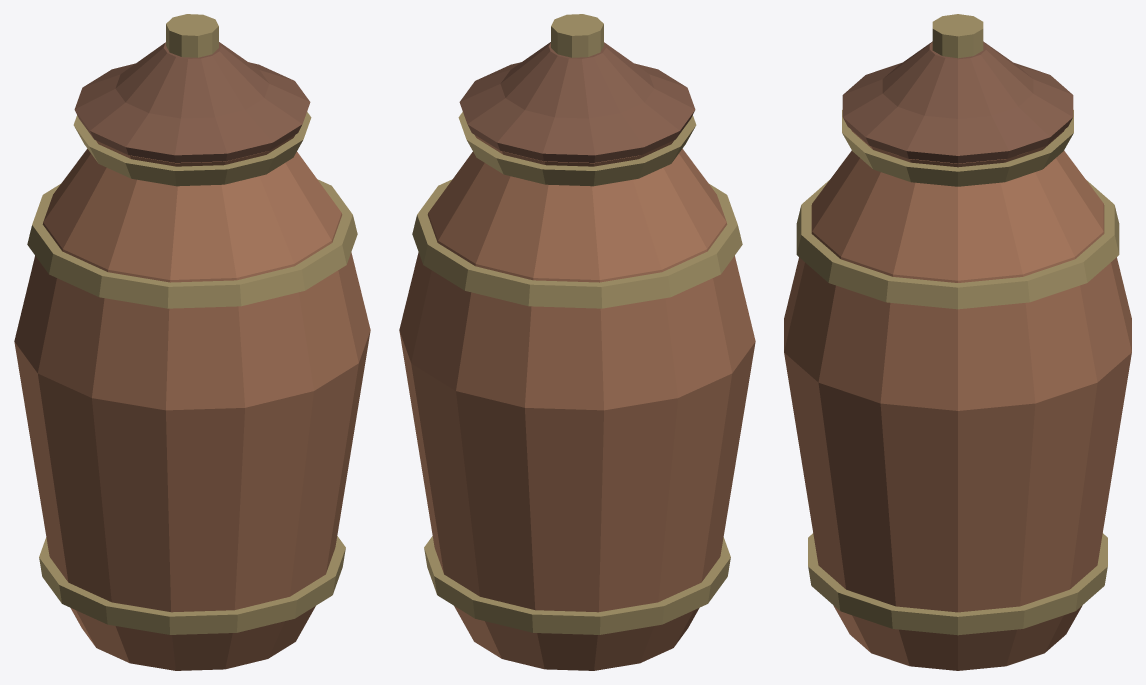
Rendered from DG_Urn_TallKeeper.fbx.
3 renders of one model, left to right at view 1: azimuth 30°, elevation 25°; view 2: azimuth 150°, elevation 25°; view 3: azimuth 270°, elevation 25°, orthographic.
Parts seen in each view (by area): view 1: DG_Urn_TallKeeper; view 2: DG_Urn_TallKeeper; view 3: DG_Urn_TallKeeper.
Boxes of the visible parts, box(x1,y1,x2,y2) form: DG_Urn_TallKeeper: box(14, 14, 370, 670); DG_Urn_TallKeeper: box(399, 14, 755, 670); DG_Urn_TallKeeper: box(784, 14, 1131, 670).
Bounding box in the file's own units: 0.74 × 1.37 × 0.7214.
